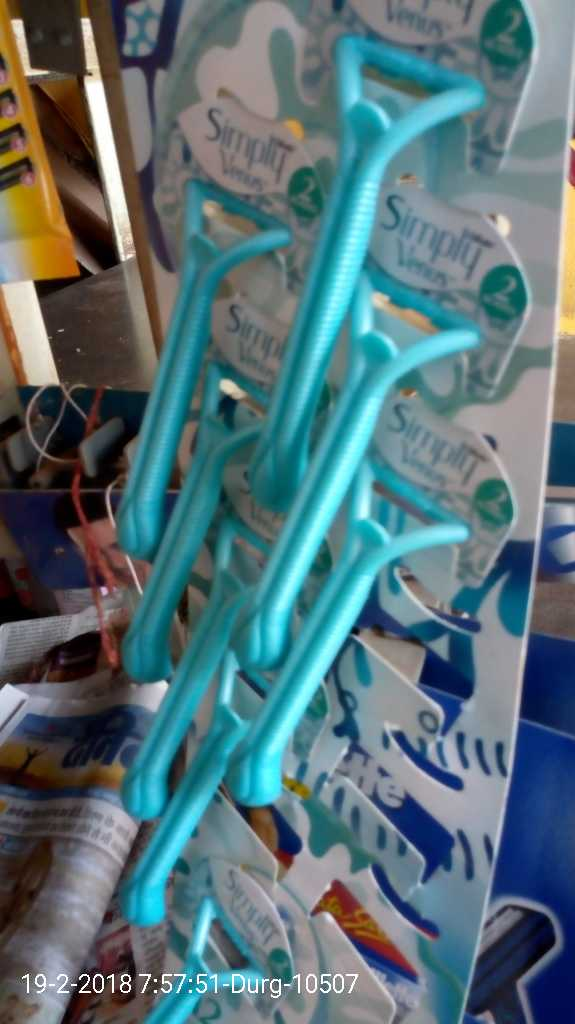reject: (219, 314, 306, 408)
